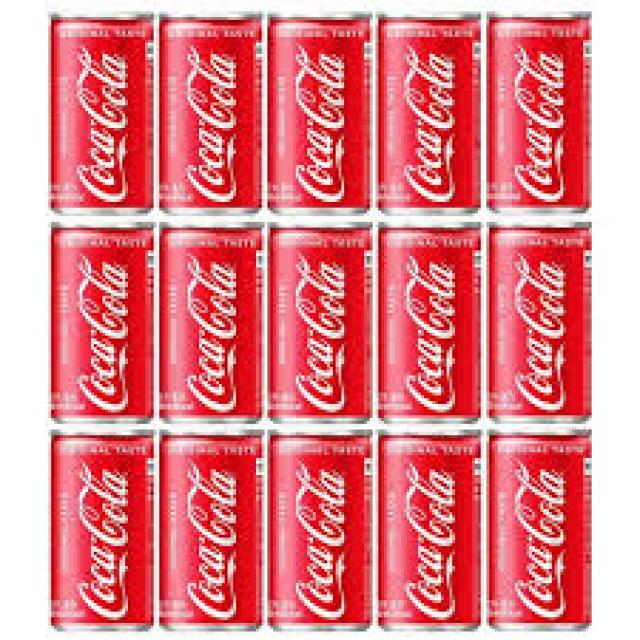Coca-Cola: (41, 3, 158, 215), (153, 0, 266, 215), (370, 7, 484, 216), (479, 427, 592, 630), (268, 422, 376, 634), (484, 13, 596, 217), (377, 427, 485, 635), (49, 426, 154, 636), (379, 218, 484, 426), (485, 222, 591, 428), (46, 224, 154, 426), (270, 0, 370, 216), (159, 427, 264, 631), (157, 220, 262, 422), (272, 219, 372, 426)
